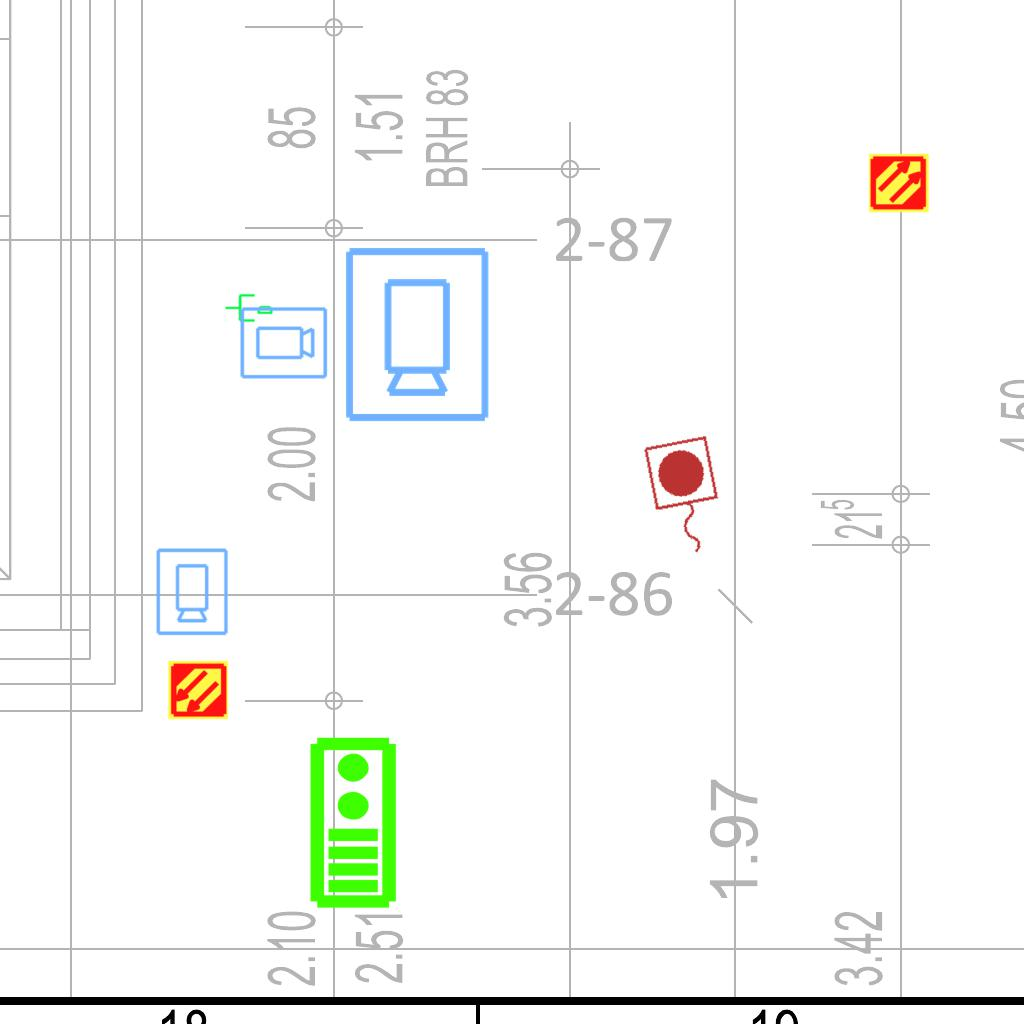ASR_Ansaugrauchmelder: (868, 152, 930, 214), (167, 659, 229, 721)
Datenanschluss_einfach: (224, 290, 274, 324)
Gegensprechanlage_mit_Video: (304, 734, 399, 910)
KFO_Kamera_mit_Festobjektiv: (339, 243, 493, 425), (153, 546, 230, 637), (238, 305, 329, 382)
Zugtaster: (638, 431, 732, 565)
